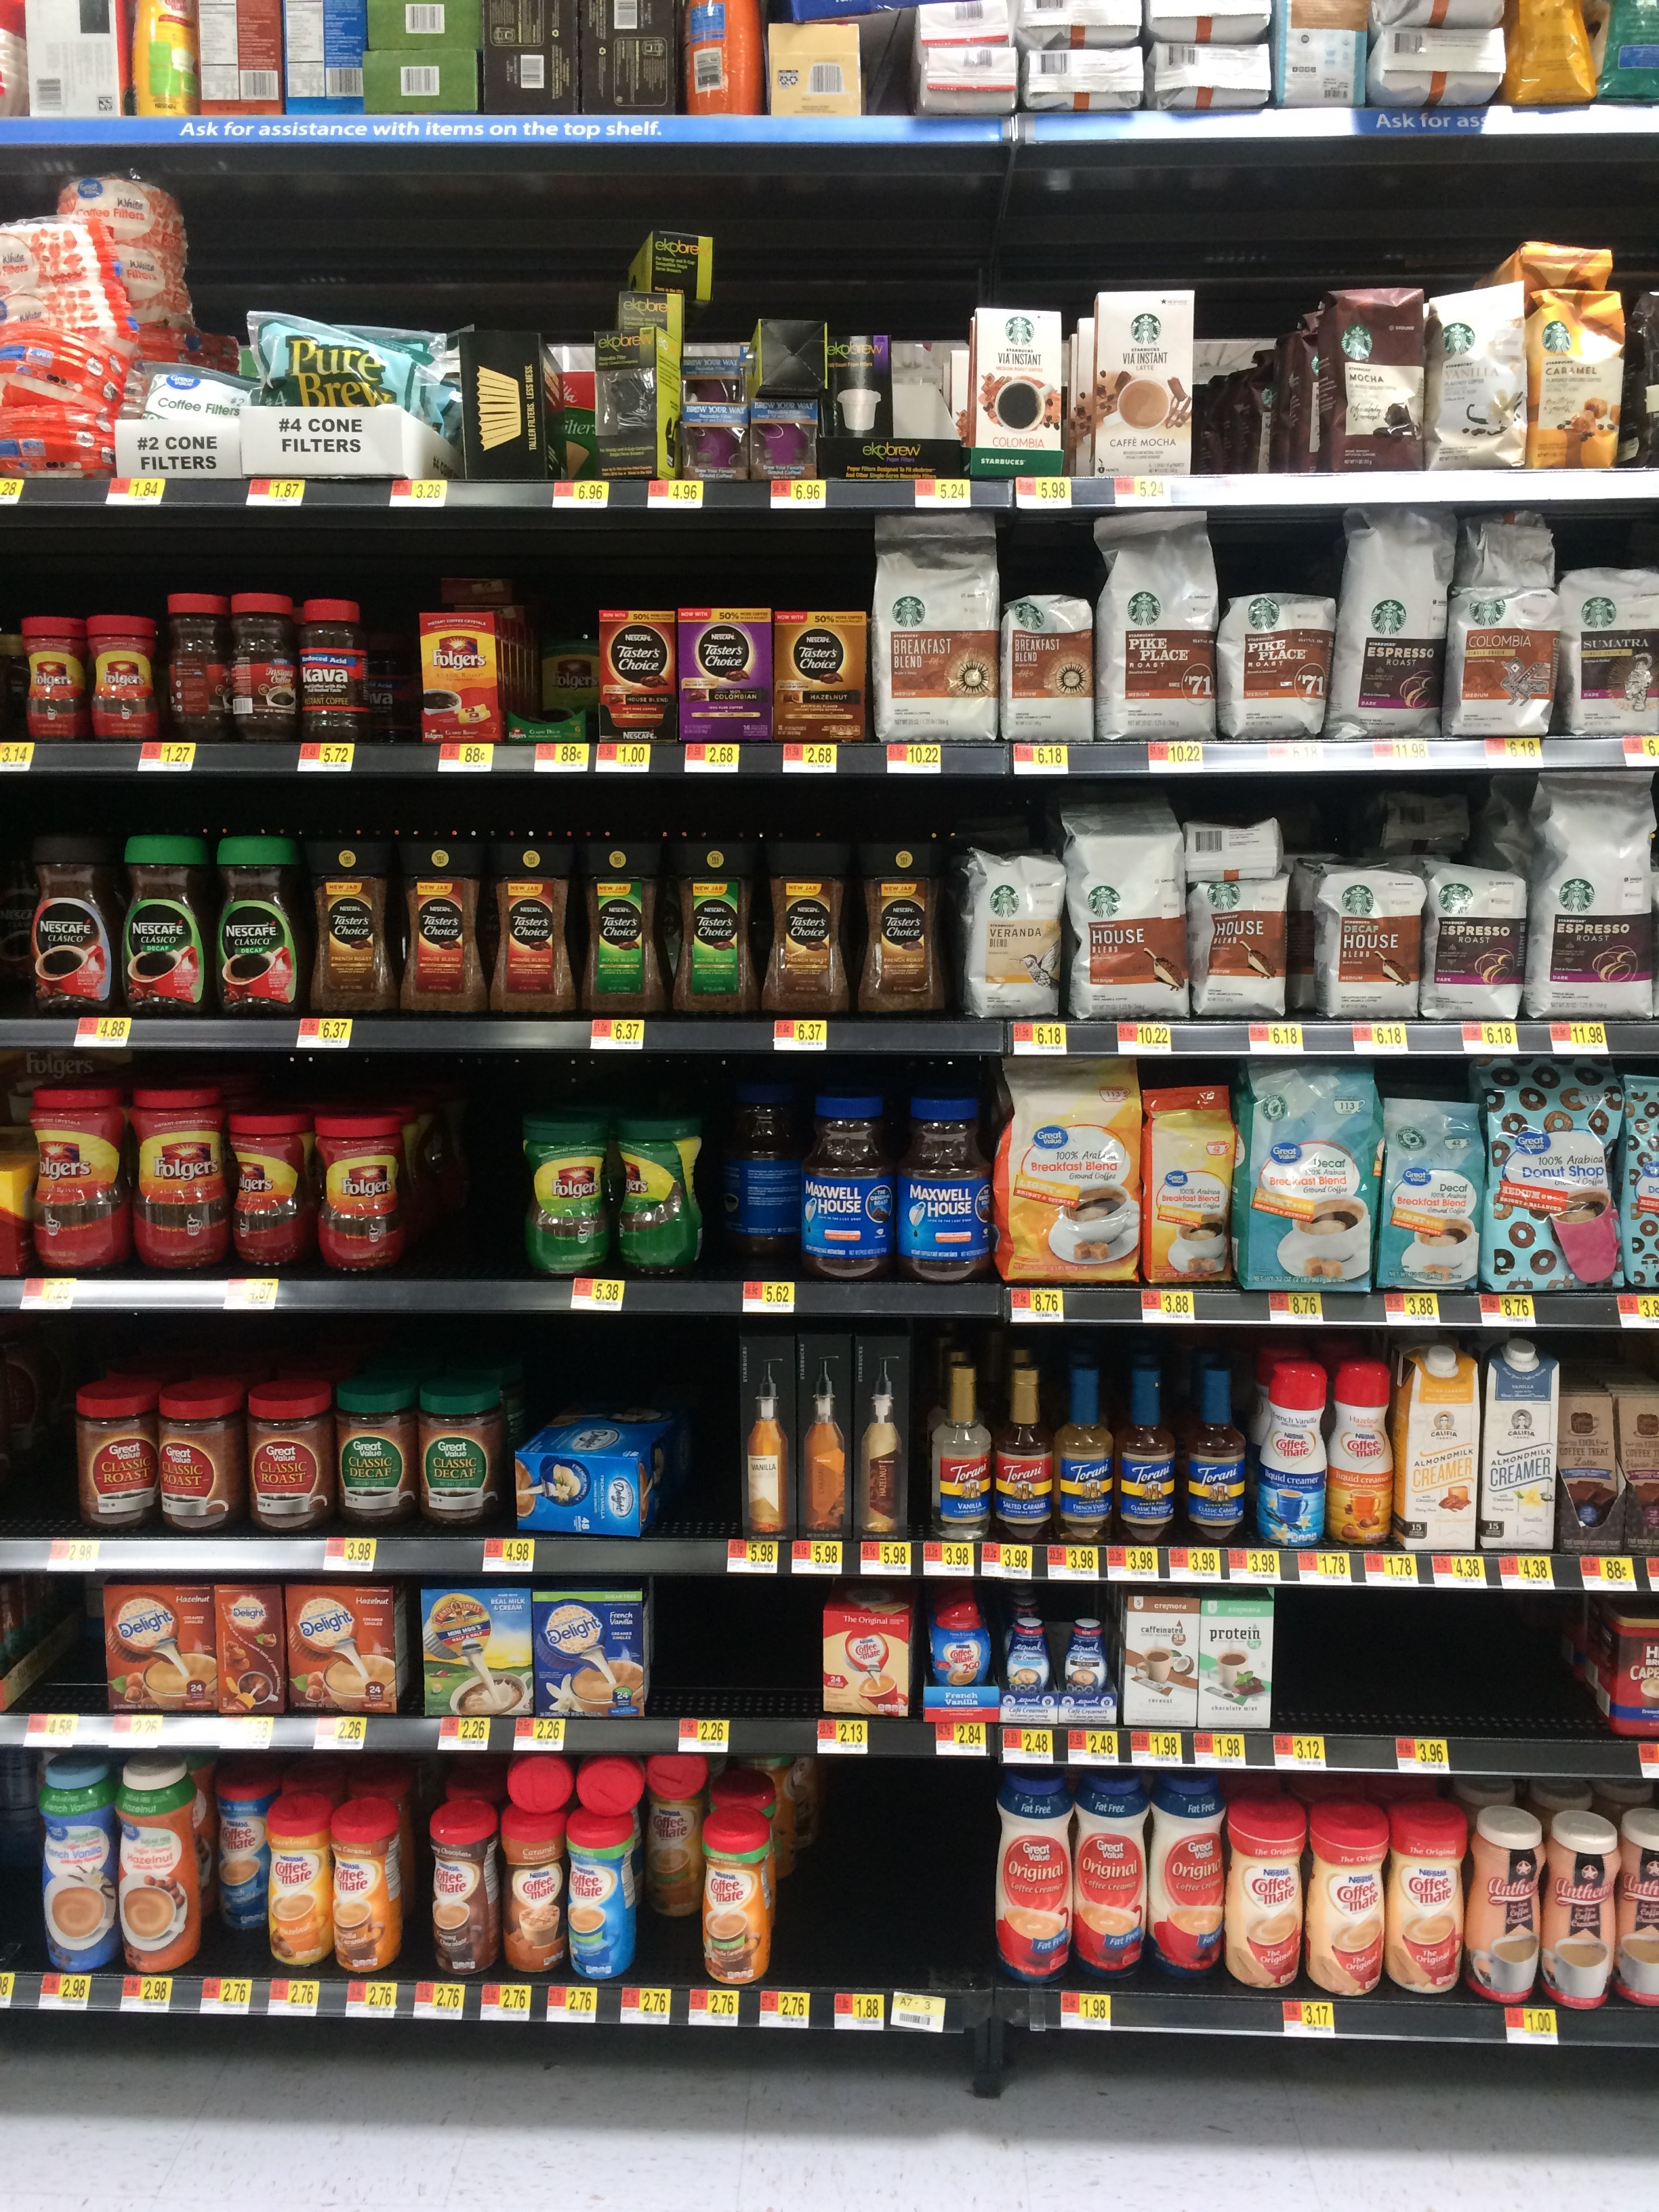Misplacement: (631, 1750, 704, 1986)
Out-of-stock: (655, 1578, 823, 1717)
